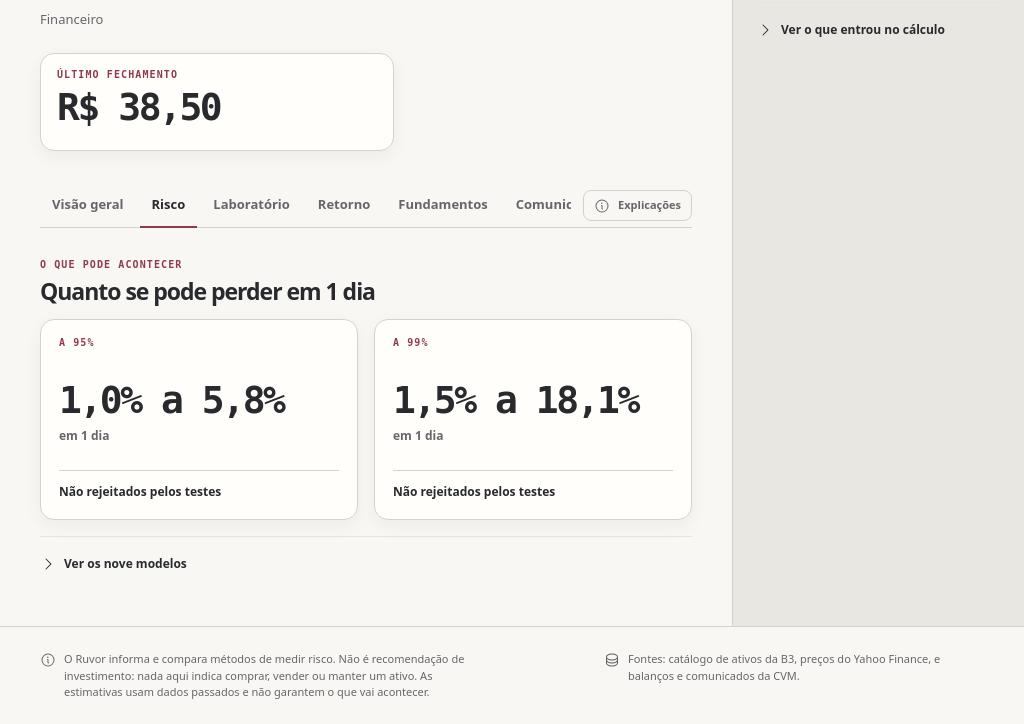
V-07 — a perda em percentual simples, sempre com o horizonte › "0.0500000000" mostra 4,9%
(page scrolled)
Click the button "Ver os nove modelos": click(113, 564) [40,549,187,578]
(page scrolled)
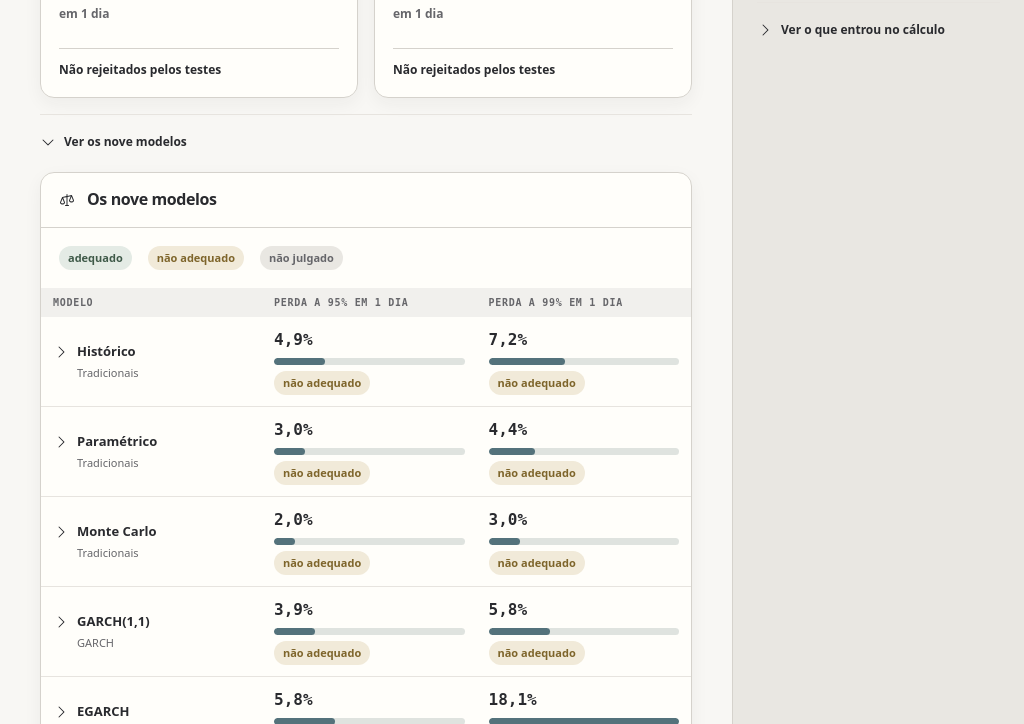
Expected: the element with class "ruvor-loss" reads "4,9%", [274,330,312,349]
